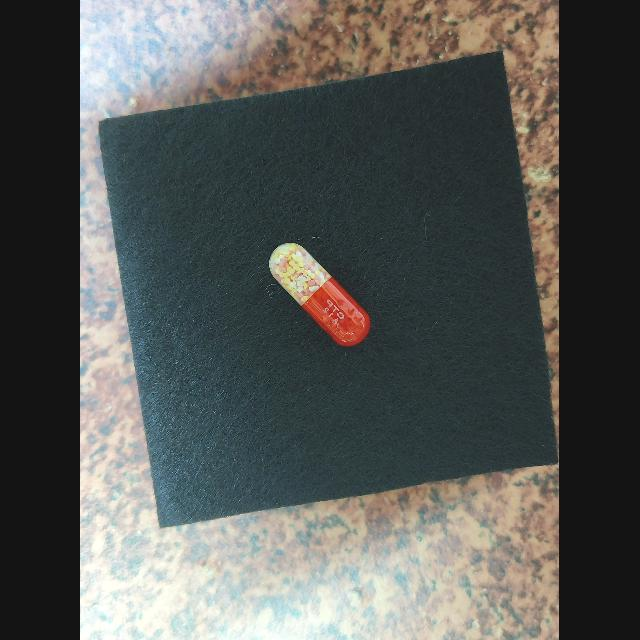Intact Capsule: (270, 242, 371, 346)
